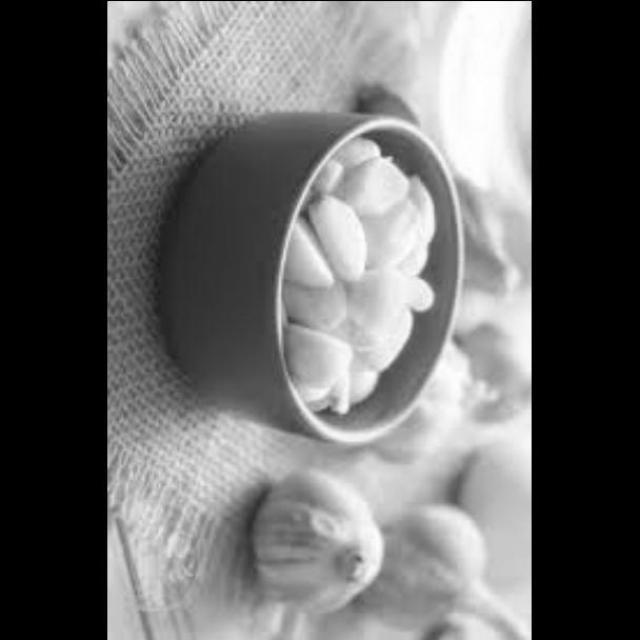garlic: (256, 122, 445, 432), (243, 458, 397, 620), (373, 491, 499, 640), (359, 340, 487, 483), (446, 173, 526, 322), (354, 70, 429, 141)
